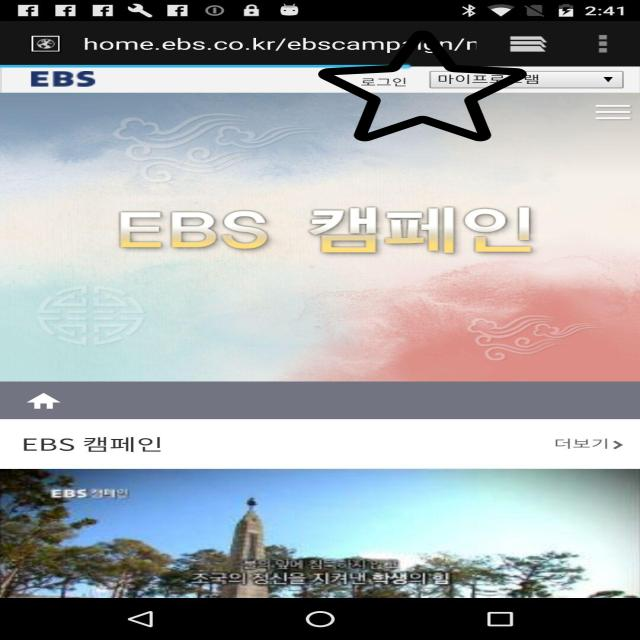forced continuity: (318, 28, 527, 144)
